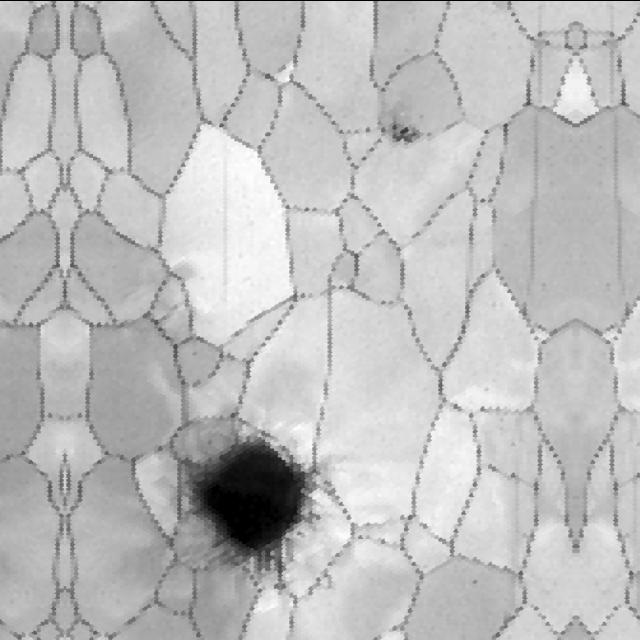good_void: (166, 413, 339, 605), (382, 108, 433, 150), (468, 577, 478, 586), (508, 439, 518, 447), (481, 385, 491, 393), (633, 440, 640, 447)
